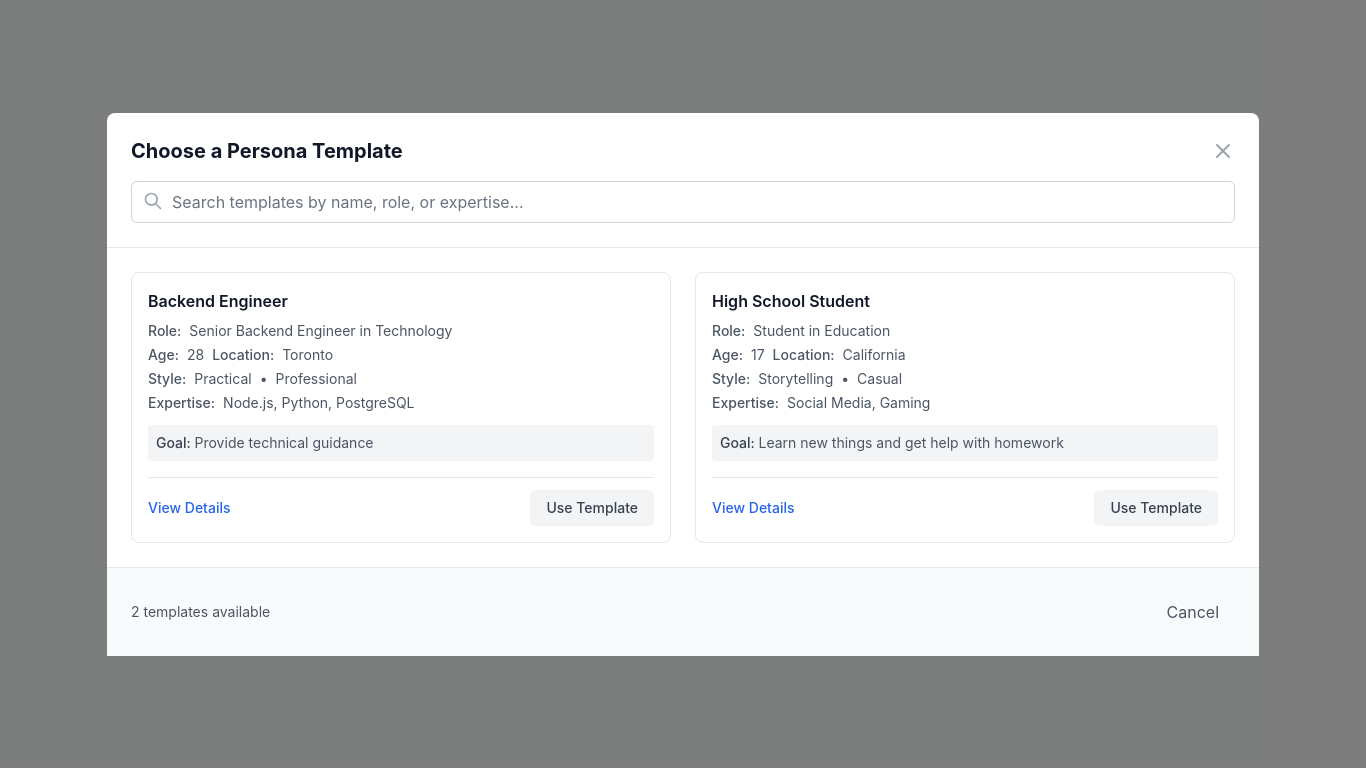
Scenario: TemplateSelector › should open template detail modal
This screenshot has width=1366, height=768.
Click the button "View Details" below "Provide technical guidance" at point(189, 508), box left=148, top=498, right=230, bottom=518
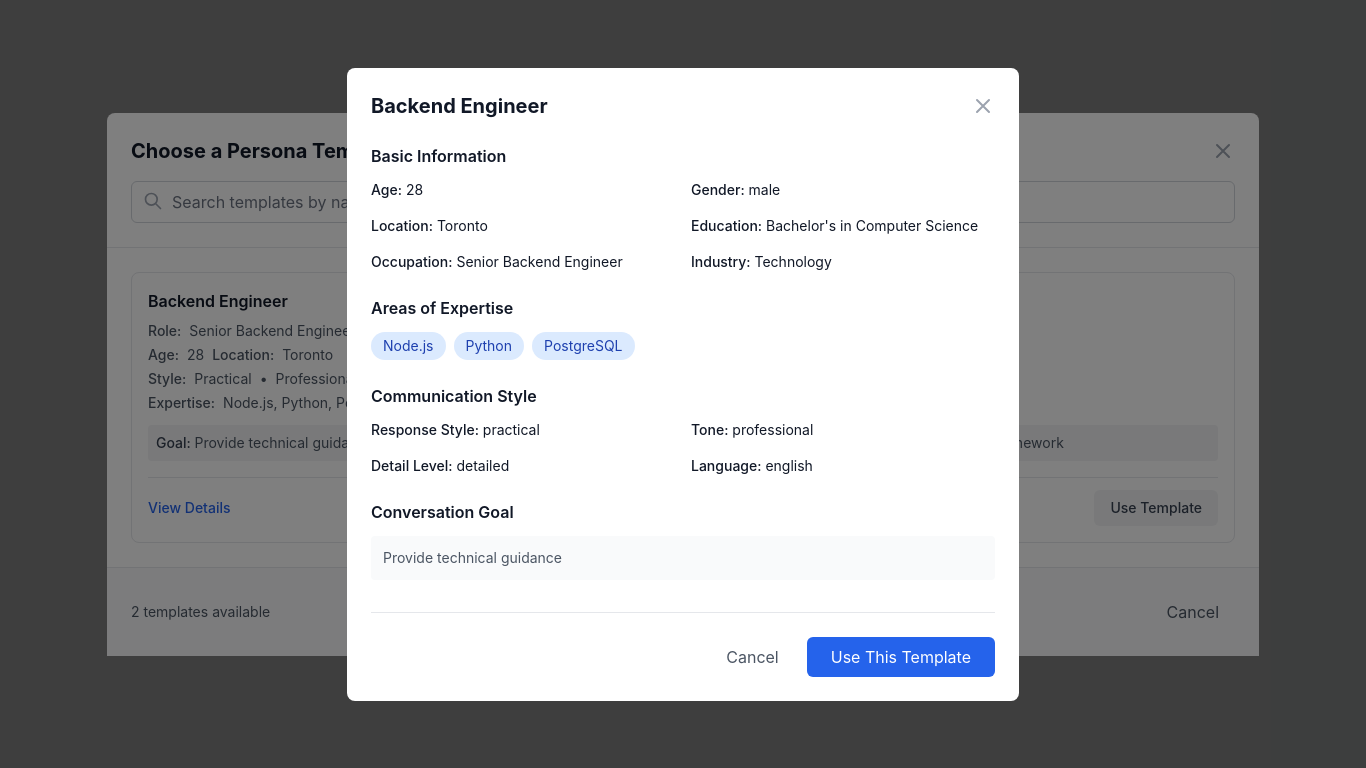
Now the heading "Basic Information" is shown, box left=371, top=146, right=506, bottom=166
Now the heading "Areas of Expertise" is shown, box left=371, top=298, right=513, bottom=318
